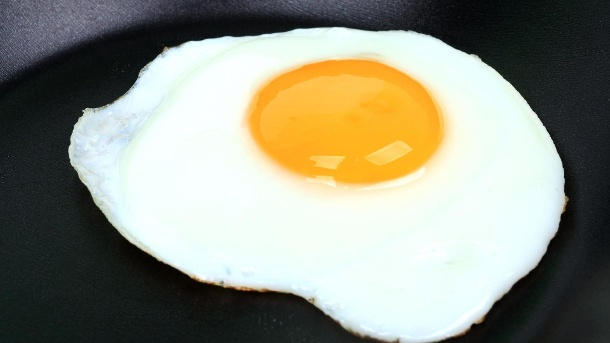fried egg: (118, 52, 513, 274)
